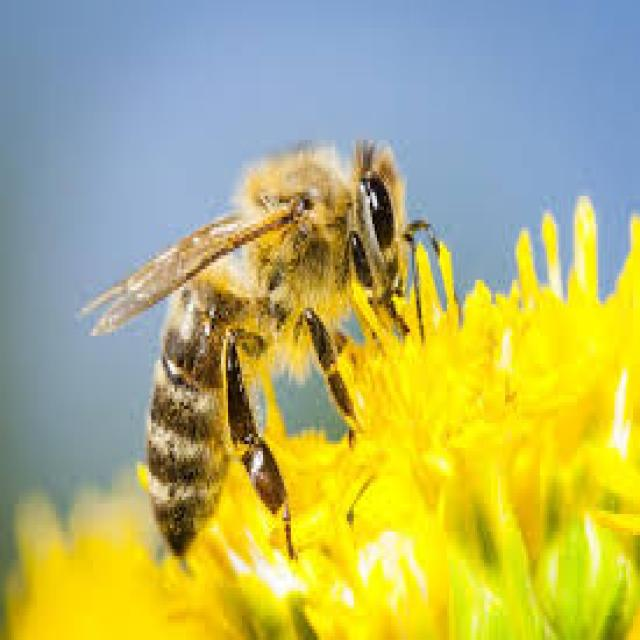Bees: (82, 133, 453, 566)
